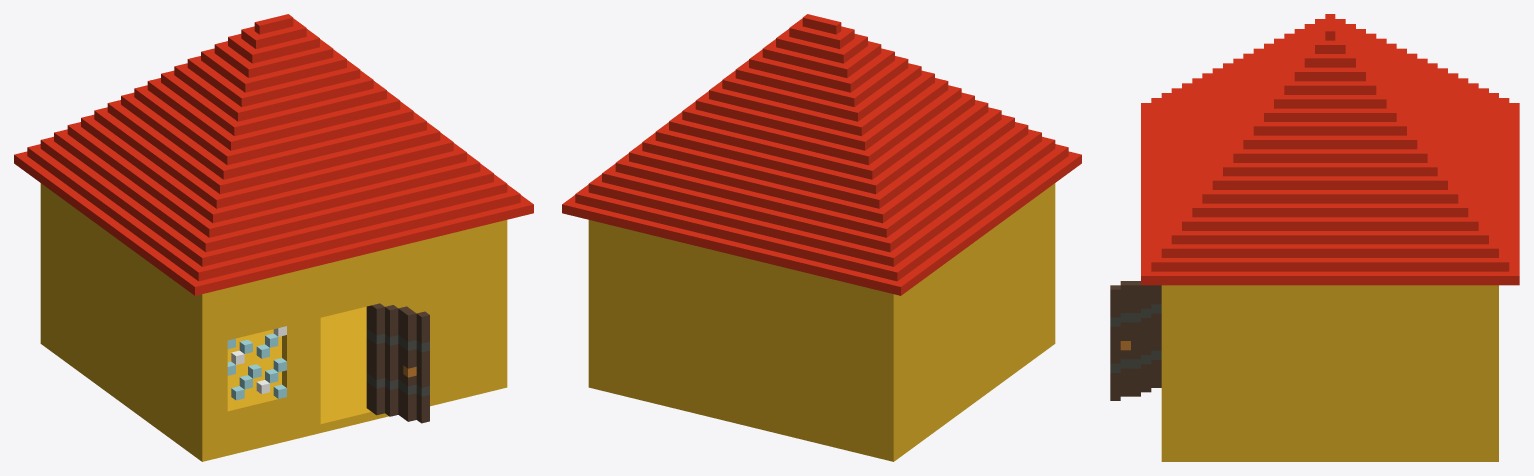
The model's file is casa-pequena.obj.
The picture shows the model from 3 angles, left to right: view 1: azimuth 30°, elevation 25°; view 2: azimuth 150°, elevation 25°; view 3: azimuth 270°, elevation 25°; orthographic projection. The views are drawn at different scales.
Size of the model in its own units: 4 by 3.9 by 4.
Materials: 1 (1 with a texture image).
